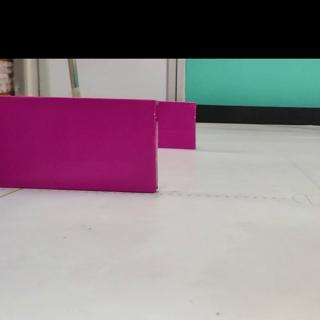xparking: (0, 98, 153, 192), (162, 101, 194, 147)
